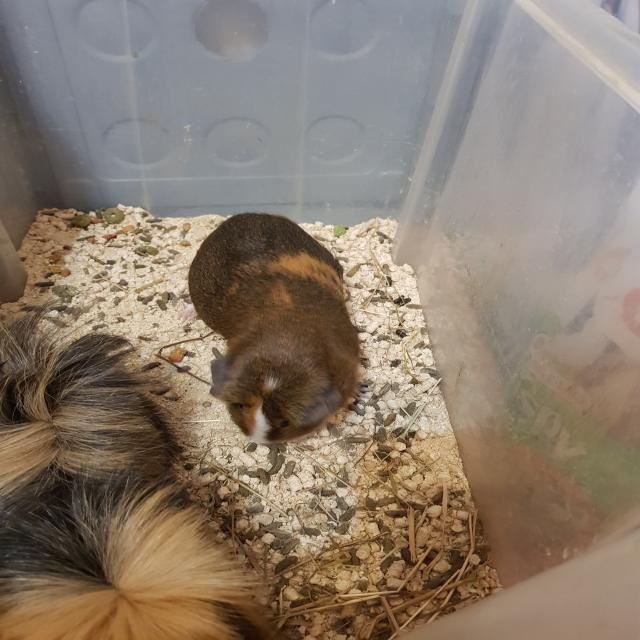guinea pig: (0, 330, 277, 640), (185, 211, 361, 446)
